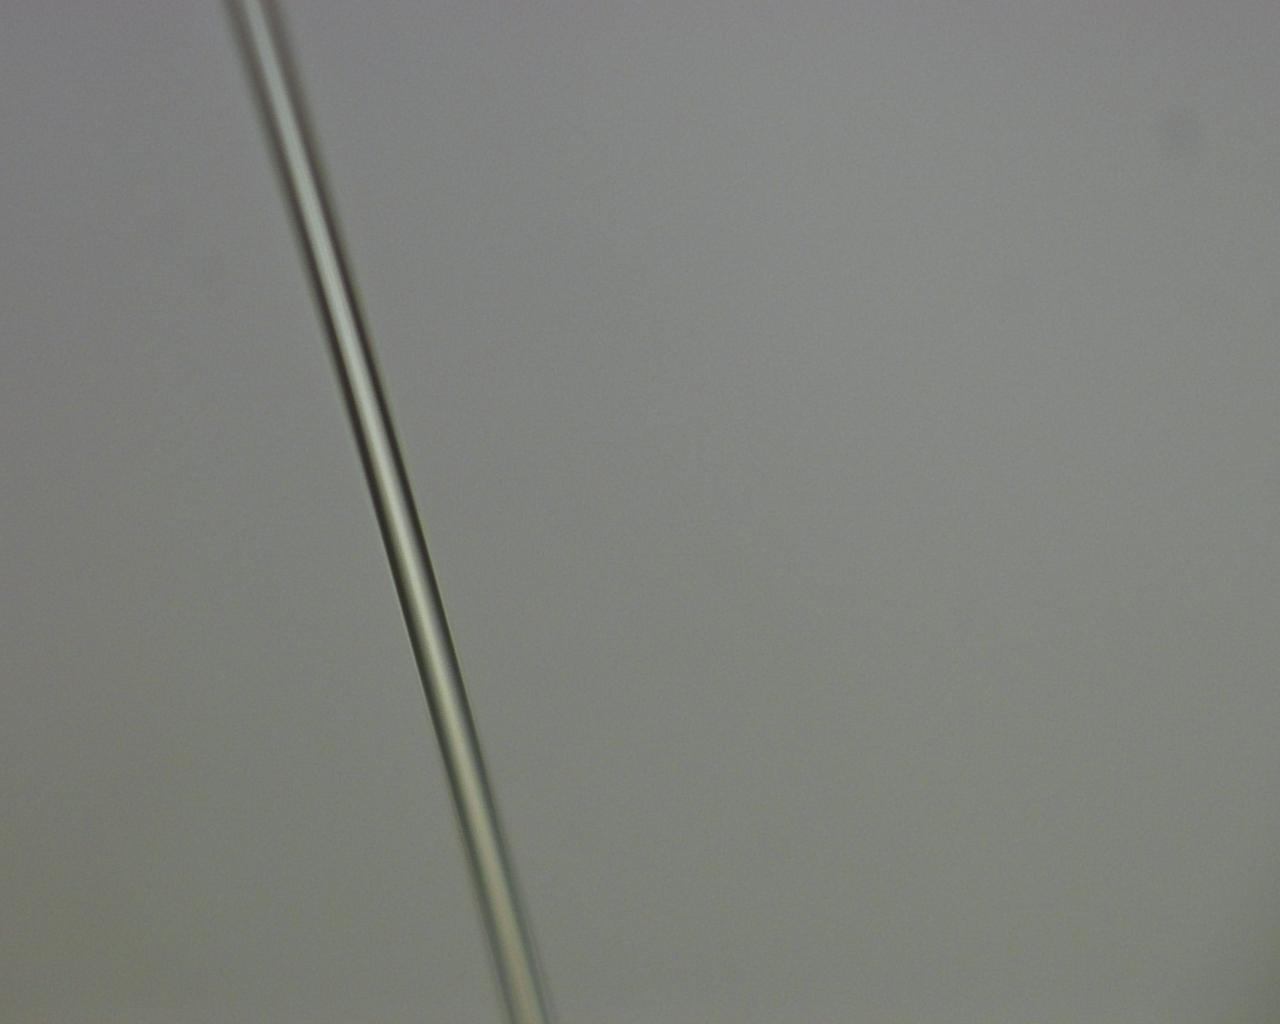fiber: (127, 539, 1151, 658)
